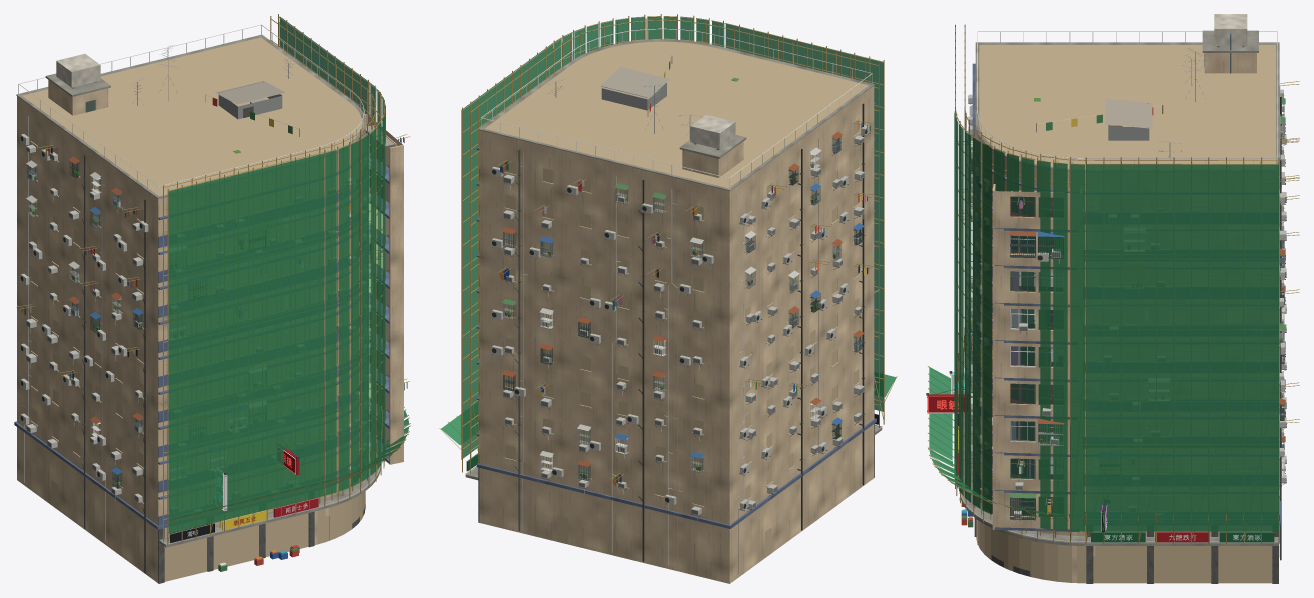
File: composite-curve.glb
The picture shows the model from 3 angles, left to right: view 1: azimuth 30°, elevation 25°; view 2: azimuth 150°, elevation 25°; view 3: azimuth 270°, elevation 25°; orthographic projection. The views are drawn at different scales.
Parts seen in each view (by area): view 1: Scaffold_net, Building_wall, LOD_vc, Scaffold_bamboo, Building_metal, Building_vc, Building_ac, Building_band, Building_slab, Building_board, Building_room, Building_tank (+2 smaller); view 2: Building_wall, LOD_vc, Scaffold_net, Building_vc, Building_metal, Building_ac, Scaffold_bamboo, Building_slab, Building_band, Building_tank, Building_tin; view 3: Scaffold_net, LOD_vc, Building_wall, Scaffold_bamboo, Building_metal, Building_slab, Building_vc, Building_glass, Building_board, Building_band, Building_ac, Building_granite (+4 smaller).
Boxes of the visible parts, <box> form: Scaffold_net: <box>168,16,408,533</box>; Building_wall: <box>17,80,403,582</box>; LOD_vc: <box>22,37,365,581</box>; Scaffold_bamboo: <box>158,14,410,544</box>; Building_metal: <box>18,24,380,544</box>; Building_vc: <box>21,81,407,573</box>; Building_ac: <box>20,134,389,502</box>; Building_band: <box>14,132,389,529</box>; Building_slab: <box>16,35,380,547</box>; Building_board: <box>170,449,318,542</box>; Building_room: <box>250,98,394,444</box>; Building_tank: <box>56,53,100,87</box>; Building_wall: <box>479,44,874,583</box>; LOD_vc: <box>484,41,868,557</box>; Scaffold_net: <box>441,16,896,459</box>; Building_vc: <box>500,60,870,573</box>; Building_metal: <box>465,28,882,516</box>; Building_ac: <box>492,124,869,515</box>; Scaffold_bamboo: <box>439,14,897,474</box>; Building_slab: <box>465,39,882,480</box>; Building_band: <box>476,102,876,528</box>; Building_tank: <box>690,114,735,149</box>; Building_tin: <box>601,83,666,110</box>; Scaffold_net: <box>929,111,1278,531</box>; LOD_vc: <box>976,45,1275,583</box>; Building_wall: <box>976,53,1279,582</box>; Scaffold_bamboo: <box>928,24,1279,543</box>; Building_metal: <box>926,31,1286,543</box>; Building_slab: <box>959,30,1279,545</box>; Building_vc: <box>961,33,1285,560</box>; Building_glass: <box>1011,196,1053,516</box>; Building_board: <box>927,372,1274,542</box>; Building_band: <box>972,63,1280,532</box>; Building_ac: <box>968,89,1286,518</box>; Building_granite: <box>974,504,1278,583</box>.
Bounding box in the file's own units: 27.02 × 37.05 × 27.13.
23 materials, 9 textured.
